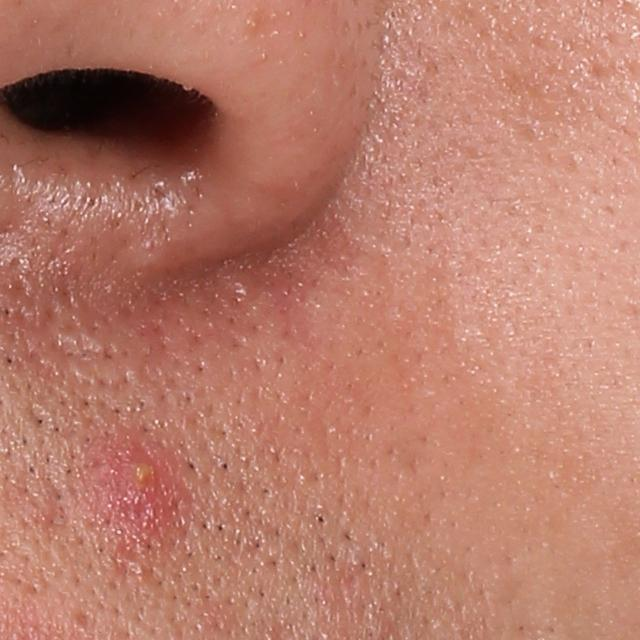pustule: (94, 445, 179, 535)
